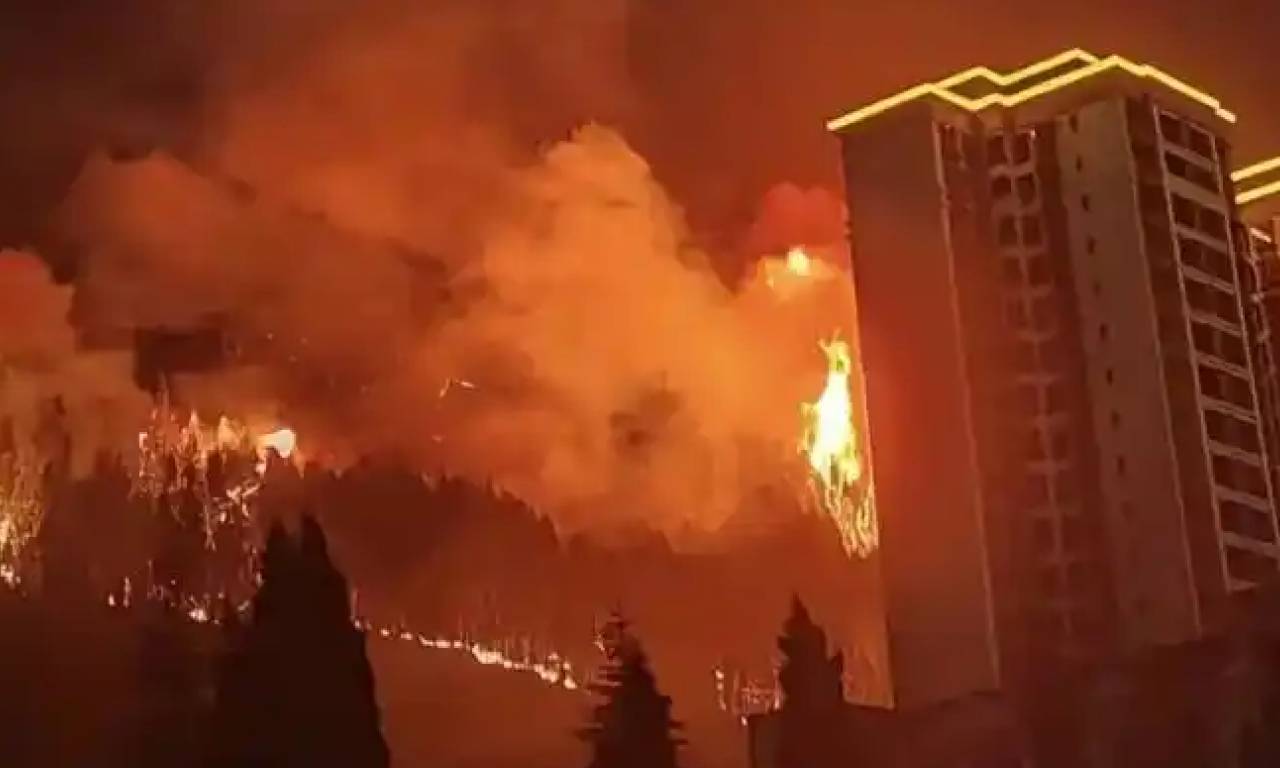fire: (21, 18, 945, 718), (760, 307, 916, 568)
